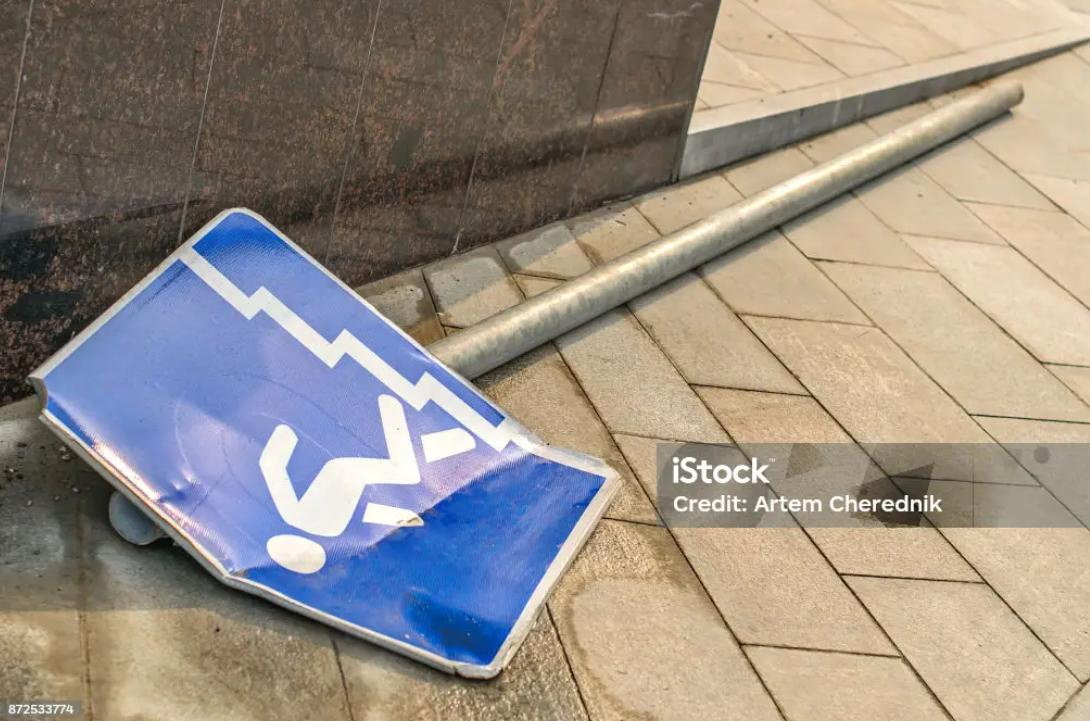obstructed_road_sign: (31, 209, 619, 677)
